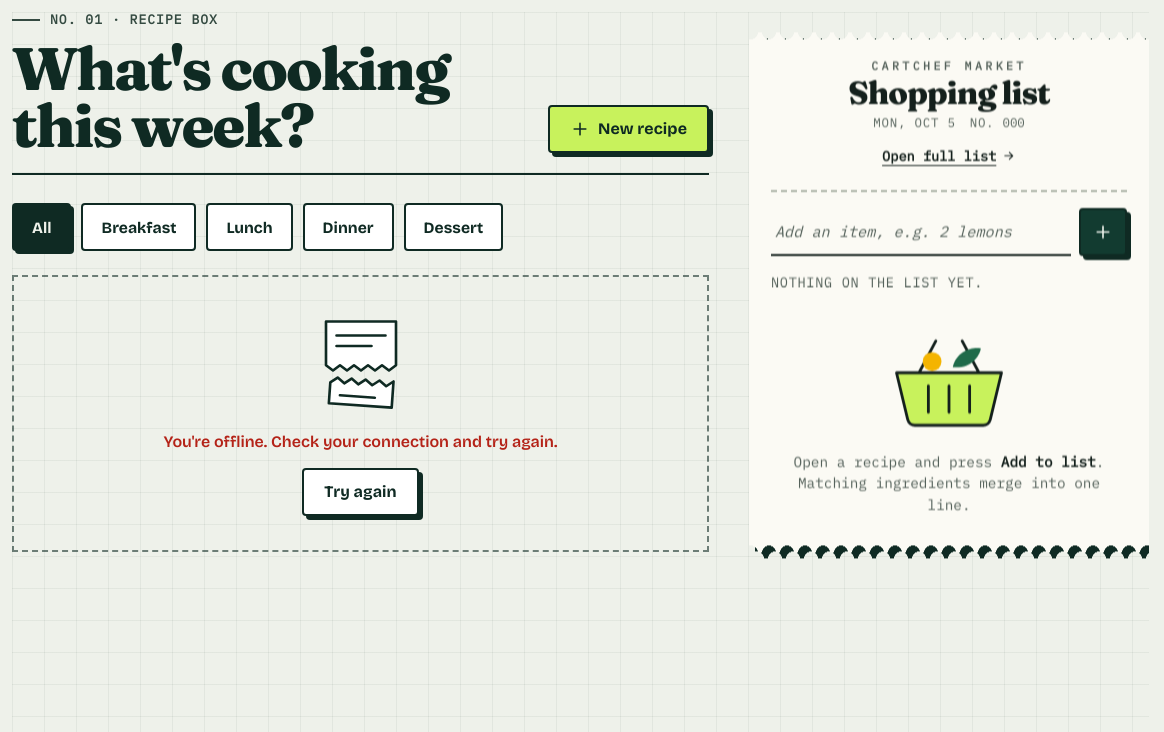
Test case: Dashboard › shows an error with a retry when recipes fail to load
Check: the message shows "You're offline", box [164, 432, 558, 451]
Click the button "Try again" at (360, 492), box [302, 468, 419, 516]
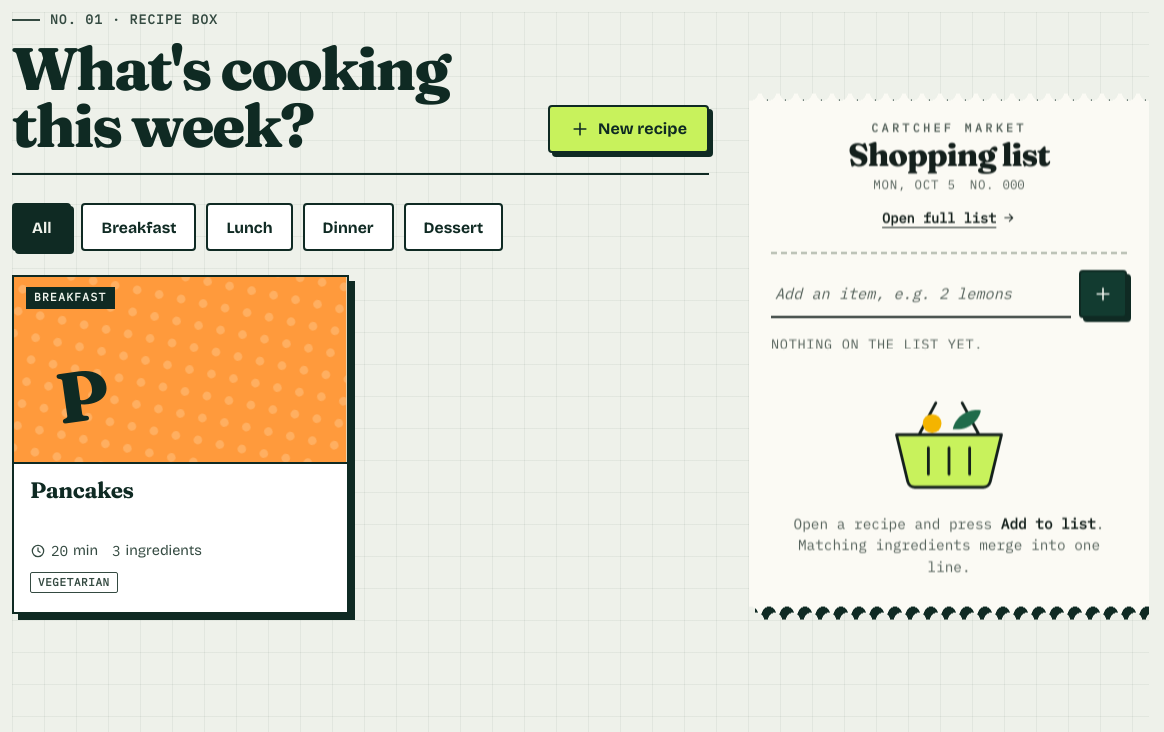
Check: the button "Pancakes" is shown, box [30, 478, 330, 504]
